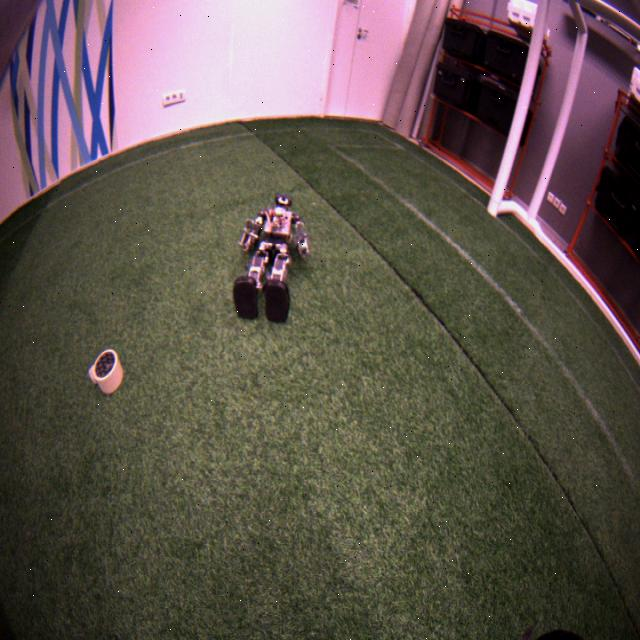goalpost: (484, 2, 572, 219)
